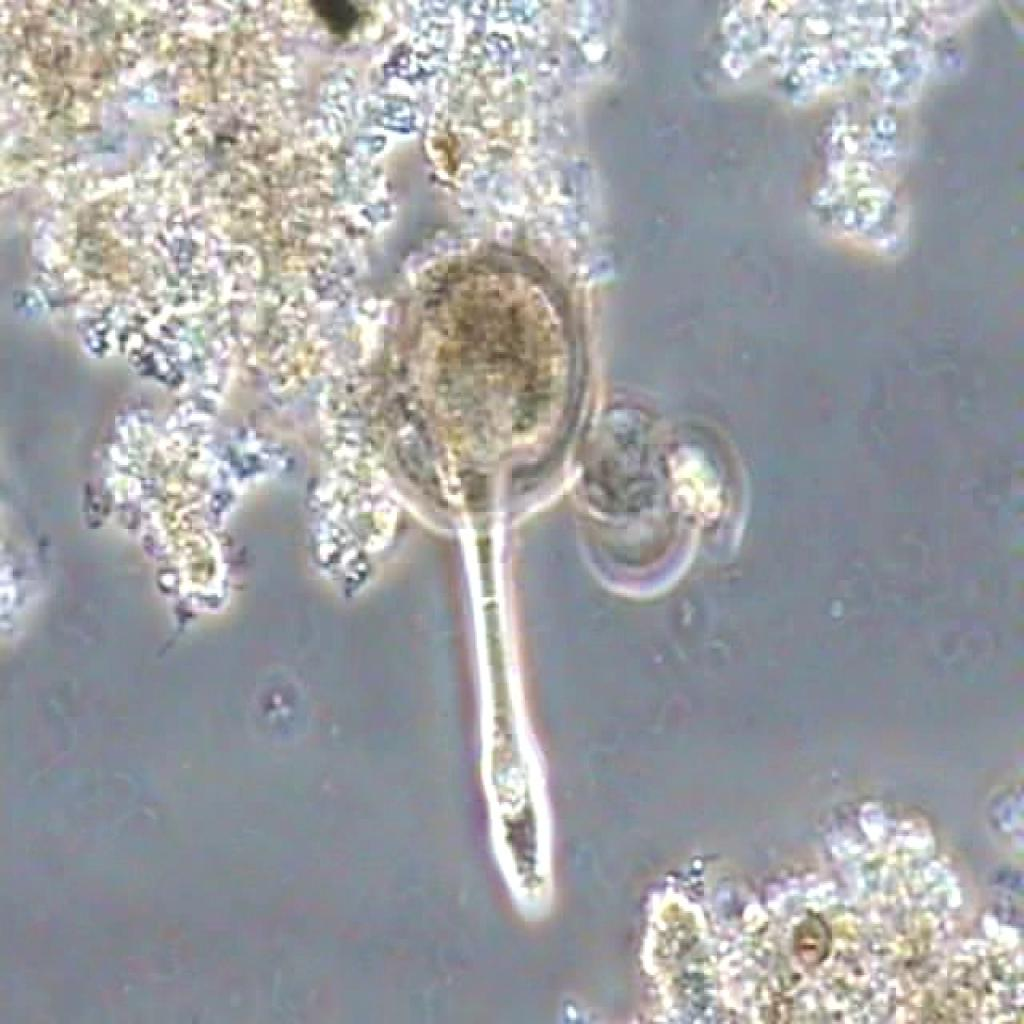Arcella: (358, 234, 618, 924)
